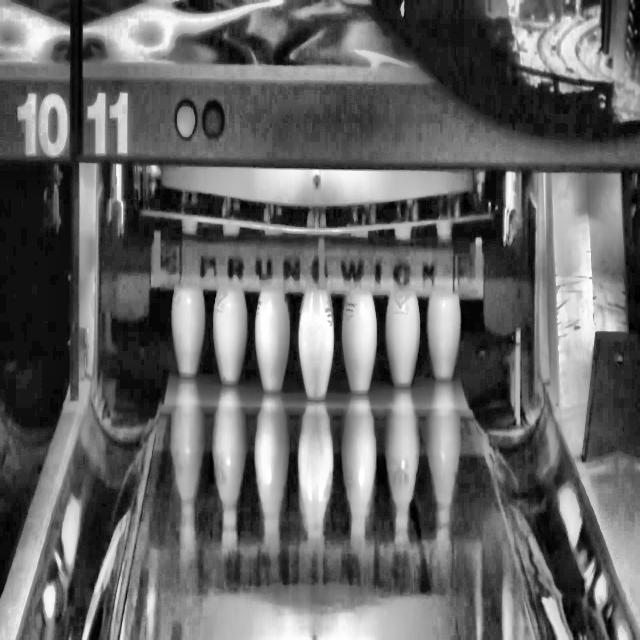bowling-pins: (299, 291, 334, 400), (255, 289, 290, 392), (343, 292, 377, 393), (213, 289, 247, 384), (387, 293, 420, 387), (172, 285, 204, 377), (428, 294, 461, 380)
sweep board: (150, 232, 485, 297)
